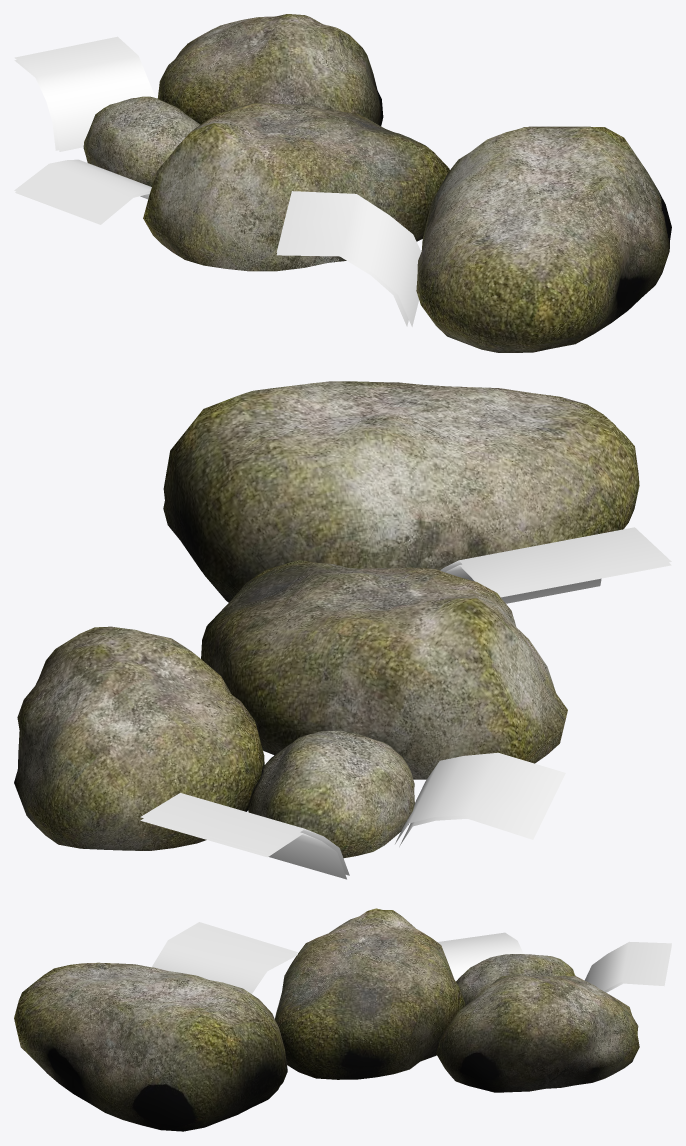
Rendered from Stone3.fbx.
3 renders of one model, top to bottom at view 1: azimuth 30°, elevation 25°; view 2: azimuth 150°, elevation 25°; view 3: azimuth 270°, elevation 25°, orthographic. The views are drawn at different scales.
Visible parts, largest first — view 1: prim0; view 2: prim0; view 3: prim0.
Boxes of the visible parts, box(x1,y1,x2,y2) form: prim0: box(14, 14, 671, 352); prim0: box(14, 381, 671, 879); prim0: box(14, 908, 671, 1131).
Size of the model in its own units: 204 by 48.78 by 302.
